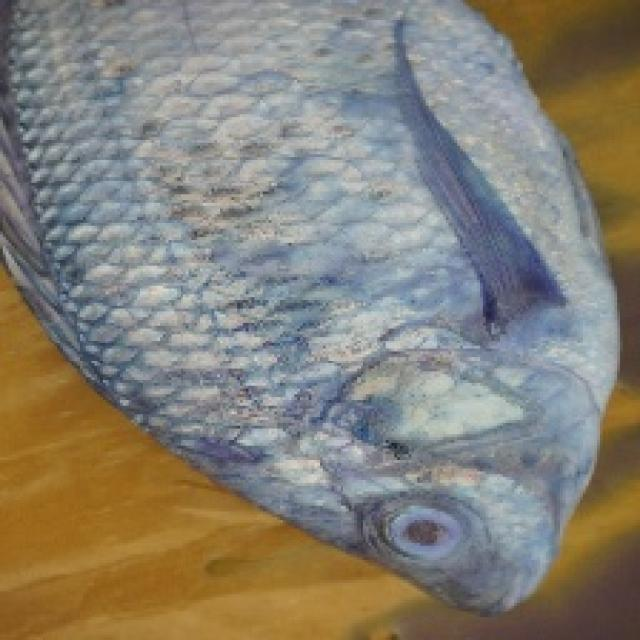Non-Fresh: (30, 8, 606, 473), (375, 490, 484, 573)
